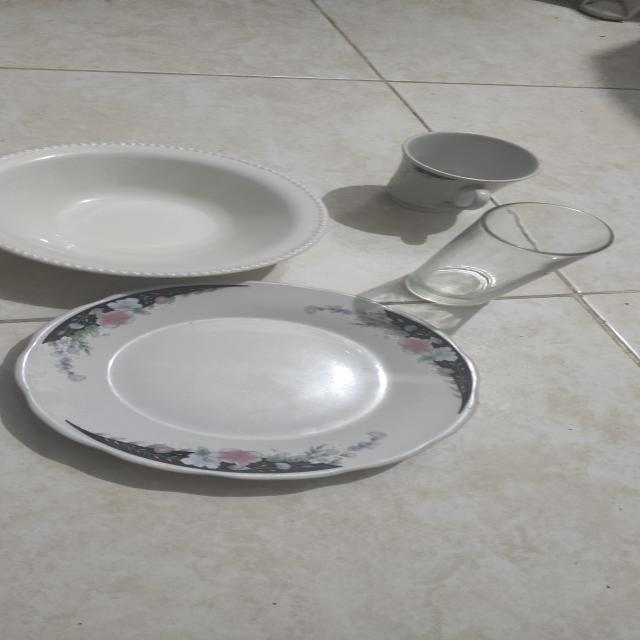non-organic waste: (0, 275, 539, 496), (1, 127, 345, 282)
